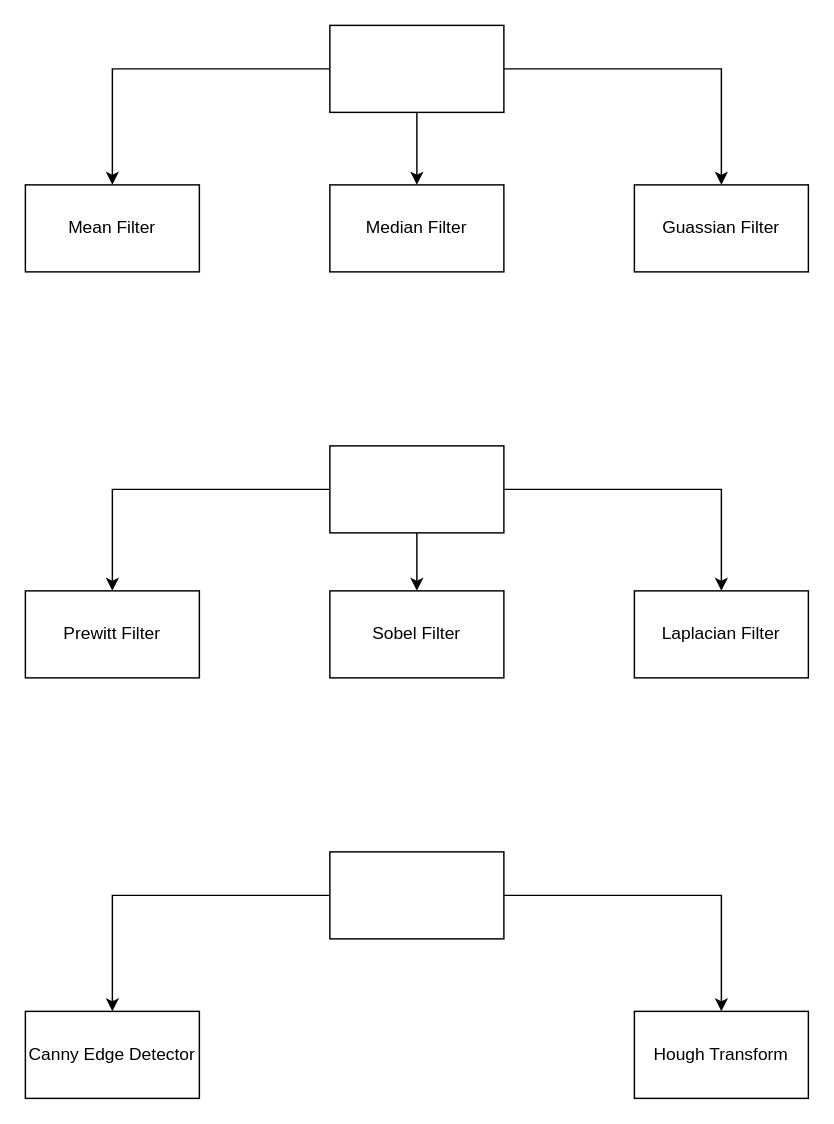
Some shapes in this 834 by 1124 pixel diagram are drawn without their labels. The shapes that lost their labels are listed below. From the top down, each one's centre as x and y in pixels, then its label:
At point (416, 68): "Noise Filters".
At point (416, 488): "Edge Detection".
At point (416, 894): "Advanced Edge Detection".
